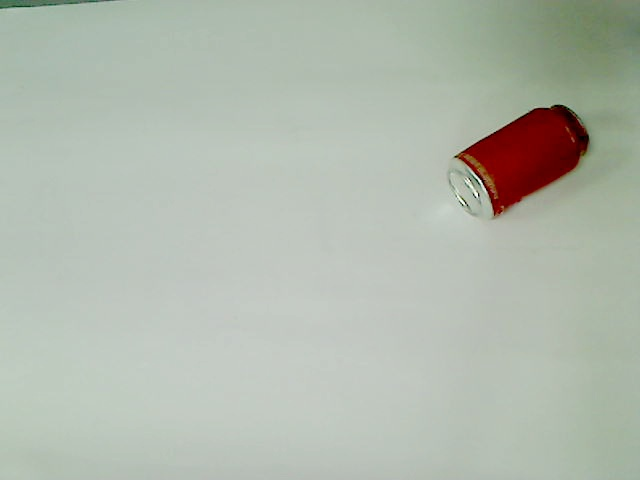can: (444, 103, 593, 221)
